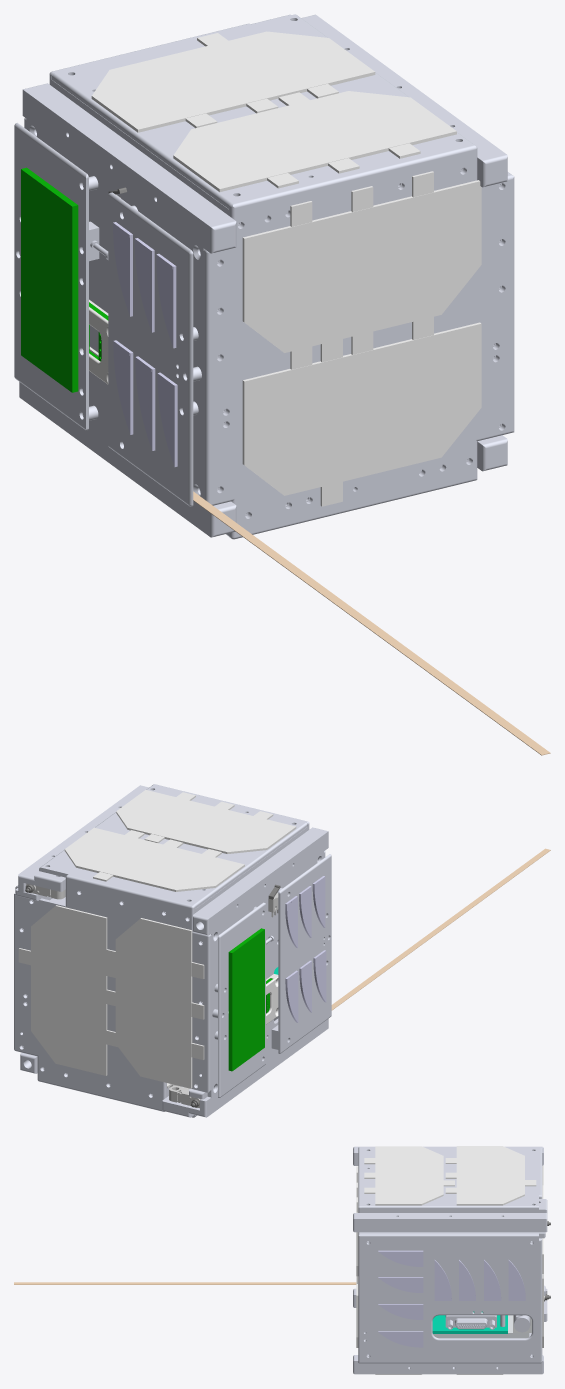
The model's file is ITF-2.glb.
3 views of the same model, one above another, from view 1: azimuth 30°, elevation 25°; view 2: azimuth 150°, elevation 25°; view 3: azimuth 270°, elevation 25° (orthographic). The views are drawn at different scales.
Visible parts, largest first — view 1: Body1.014, Body1.102, Body1.100, Body1.103, Body1.101, Body1.037, Body1.120, Body1.011, Body1.012, Body1.038, Body1.016, Body1.006 (+11 smaller); view 2: Body1.015, Body1.104, Body1.105, Body1.101, Body1.103, Body1.037, Body1.120, Body1.012, Body1.011, Body1.038, Body1.016, Body1.006 (+10 smaller); view 3: Body1.097, Body1.002, Body1.103, Body1.101, Body1.012, Body1.008, Body1.039, Body1.014, Body1.088, Body1.015, Body1.080, Body1.114 (+10 smaller).
Part boxes in pixels (bbox=[...]): Body1.014: bbox=[203, 144, 514, 539]; Body1.102: bbox=[242, 171, 481, 362]; Body1.100: bbox=[242, 316, 481, 506]; Body1.103: bbox=[173, 91, 456, 192]; Body1.101: bbox=[91, 31, 375, 132]; Body1.037: bbox=[108, 192, 193, 506]; Body1.120: bbox=[21, 167, 78, 392]; Body1.011: bbox=[22, 83, 236, 263]; Body1.012: bbox=[52, 14, 472, 208]; Body1.038: bbox=[14, 123, 88, 430]; Body1.016: bbox=[26, 119, 204, 498]; Body1.006: bbox=[19, 382, 248, 537]; Body1.015: bbox=[14, 874, 211, 1111]; Body1.104: bbox=[106, 918, 204, 1088]; Body1.105: bbox=[18, 905, 117, 1075]; Body1.101: bbox=[64, 827, 244, 891]; Body1.103: bbox=[116, 790, 296, 853]; Body1.037: bbox=[278, 854, 331, 1053]; Body1.120: bbox=[228, 928, 264, 1071]; Body1.012: bbox=[39, 785, 307, 908]; Body1.011: bbox=[193, 827, 328, 943]; Body1.038: bbox=[218, 902, 265, 1097]; Body1.016: bbox=[207, 851, 323, 1097]; Body1.006: bbox=[162, 1016, 328, 1117]; Body1.097: bbox=[361, 1233, 538, 1363]; Body1.002: bbox=[353, 1199, 547, 1232]; Body1.103: bbox=[364, 1146, 454, 1205]; Body1.101: bbox=[445, 1146, 536, 1205]; Body1.012: bbox=[361, 1147, 538, 1209]; Body1.008: bbox=[353, 1354, 543, 1374]; Body1.039: bbox=[14, 1282, 356, 1284]; Body1.014: bbox=[358, 1147, 361, 1363]; Body1.088: bbox=[445, 1315, 496, 1329]; Body1.015: bbox=[539, 1147, 542, 1363]; Body1.080: bbox=[432, 1315, 507, 1333]; Body1.114: bbox=[378, 1250, 423, 1266].
Bounding box in the file's own units: 0.1116 × 0.11 × 0.3136.
